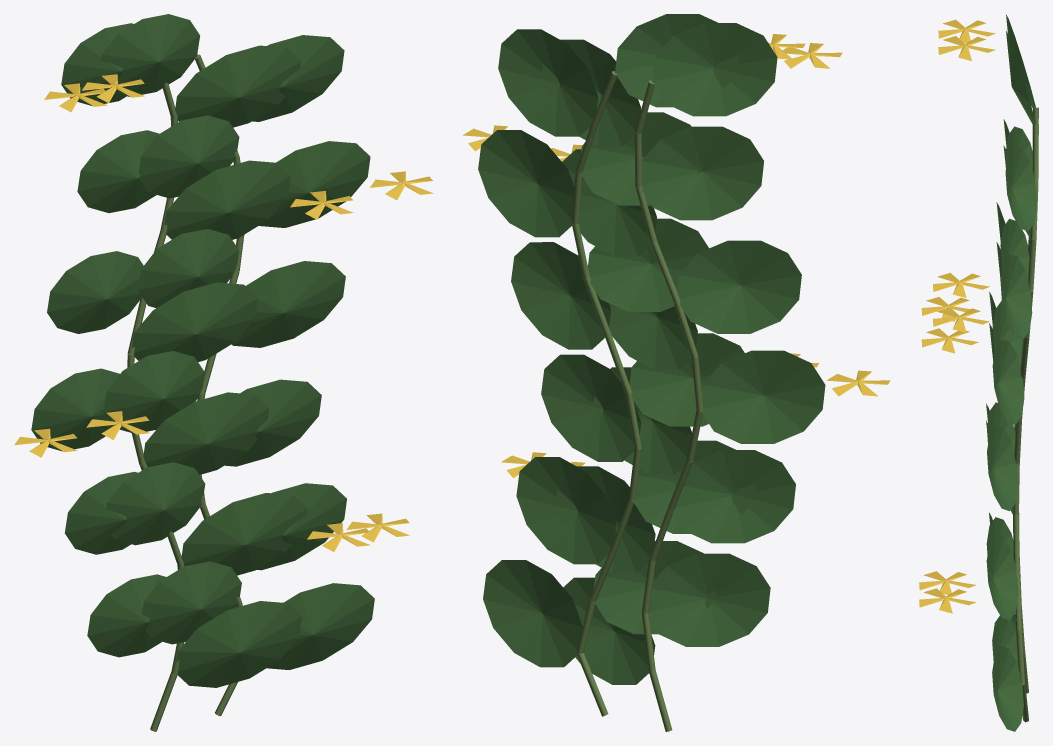
Rendered from tristellateia-australasiae.glb.
3 renders of one model, left to right at view 1: azimuth 30°, elevation 25°; view 2: azimuth 150°, elevation 25°; view 3: azimuth 270°, elevation 25°, orthographic. The views are drawn at different scales.
Parts seen in each view (by area): view 1: Climber species leaves, Species flowers / bracts, Climber species stems; view 2: Climber species leaves, Climber species stems, Species flowers / bracts; view 3: Climber species leaves, Species flowers / bracts, Climber species stems.
Boxes of the visible parts, bbox=[...] form: Climber species leaves: bbox=[31, 14, 374, 687]; Species flowers / bracts: bbox=[14, 74, 433, 551]; Climber species stems: bbox=[127, 54, 244, 731]; Climber species leaves: bbox=[478, 14, 825, 684]; Climber species stems: bbox=[571, 71, 703, 731]; Species flowers / bracts: bbox=[463, 34, 890, 477]; Climber species leaves: bbox=[986, 14, 1037, 731]; Species flowers / bracts: bbox=[919, 19, 995, 613]; Climber species stems: bbox=[1013, 107, 1038, 722].
Bounding box in the file's own units: 0.5191 × 0.8598 × 0.1439.
